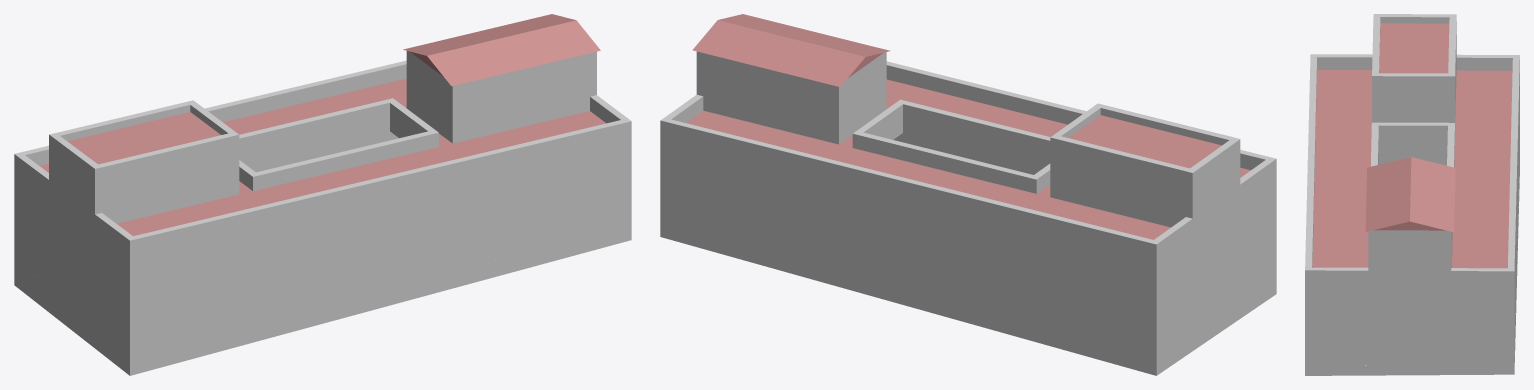
File: LOD_Block_1_63.glb
3 views of the same model, side by side, from view 1: azimuth 30°, elevation 25°; view 2: azimuth 150°, elevation 25°; view 3: azimuth 270°, elevation 25° (orthographic). The views are drawn at different scales.
Visible parts, largest first — view 1: mesh_CityEngineMaterial_850; view 2: mesh_CityEngineMaterial_850; view 3: mesh_CityEngineMaterial_850.
Boxes of the visible parts, x1,y1,x2,y2 form: mesh_CityEngineMaterial_850: [14, 14, 631, 375]; mesh_CityEngineMaterial_850: [660, 14, 1276, 375]; mesh_CityEngineMaterial_850: [1305, 14, 1519, 375].
Bounding box in the file's own units: 36.8 × 13.44 × 15.33.
